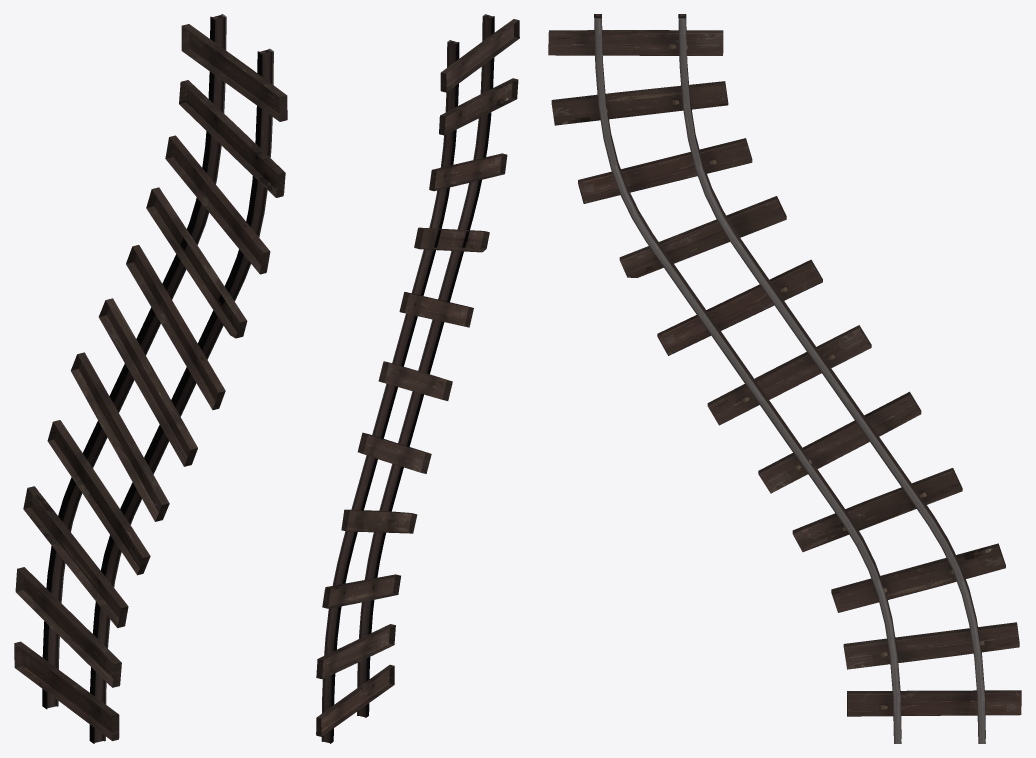
The model's file is props_mining_track_s_curve_96_mirrored.glb.
3 views of the same model, side by side, from view 1: azimuth 30°, elevation 25°; view 2: azimuth 150°, elevation 25°; view 3: azimuth 270°, elevation 25° (orthographic). The views are drawn at different scales.
Parts seen in each view (by area): view 1: models/props_mining/track_s_curve_96_mirrored; view 2: models/props_mining/track_s_curve_96_mirrored; view 3: models/props_mining/track_s_curve_96_mirrored.
Part boxes in pixels (bbox=[...]): models/props_mining/track_s_curve_96_mirrored: bbox=[14, 14, 287, 743]; models/props_mining/track_s_curve_96_mirrored: bbox=[316, 14, 519, 743]; models/props_mining/track_s_curve_96_mirrored: bbox=[548, 14, 1021, 743].
Bounding box in the file's own units: 6.71 × 256 × 152.
Materials: 1 (1 with a texture image).
